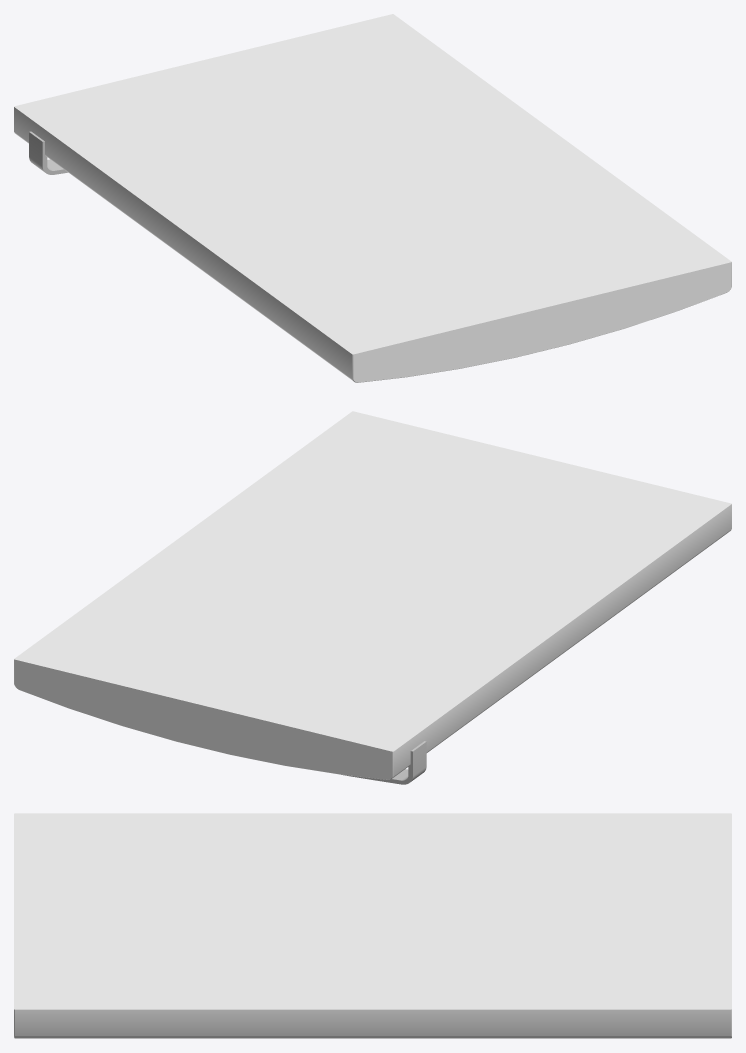
File: fridge0015_door01.glb
The picture shows the model from 3 angles, top to bottom: view 1: azimuth 30°, elevation 25°; view 2: azimuth 150°, elevation 25°; view 3: azimuth 270°, elevation 25°; orthographic projection. The views are drawn at different scales.
Visible parts, largest first — view 1: fridge0015_door01; view 2: fridge0015_door01; view 3: fridge0015_door01.
Part boxes in pixels (bbox=[...]): fridge0015_door01: bbox=[14, 14, 731, 382]; fridge0015_door01: bbox=[14, 411, 731, 784]; fridge0015_door01: bbox=[14, 813, 731, 1038].
Size of the model in its own units: 0.6773 by 0.0944 by 1.04.
Materials: 2 (2 with a texture image).
